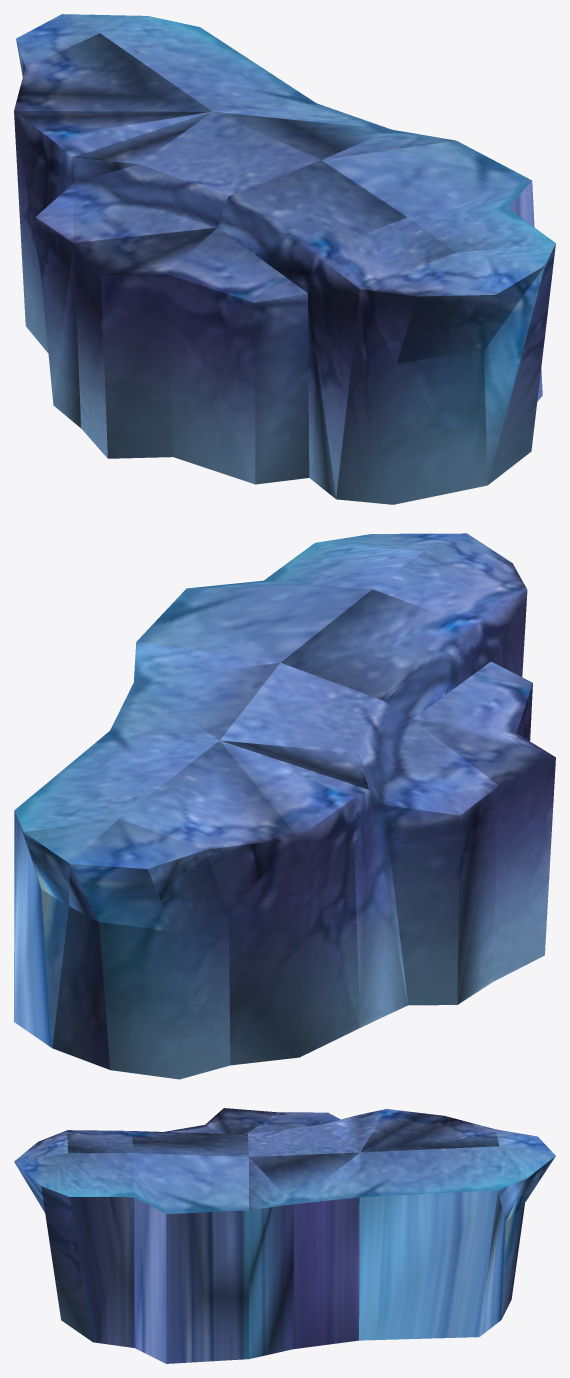
Rendered from scenes_cave_cliff01.FBX.
The picture shows the model from 3 angles, top to bottom: view 1: azimuth 30°, elevation 25°; view 2: azimuth 150°, elevation 25°; view 3: azimuth 270°, elevation 25°; orthographic projection. The views are drawn at different scales.
Parts seen in each view (by area): view 1: scenes_cave_cliff01; view 2: scenes_cave_cliff01; view 3: scenes_cave_cliff01.
Boxes of the visible parts, <box> form: scenes_cave_cliff01: <box>14,14,555,504</box>; scenes_cave_cliff01: <box>14,533,555,1079</box>; scenes_cave_cliff01: <box>14,1108,555,1363</box>.
Size of the model in its own units: 812 by 459 by 1420.
